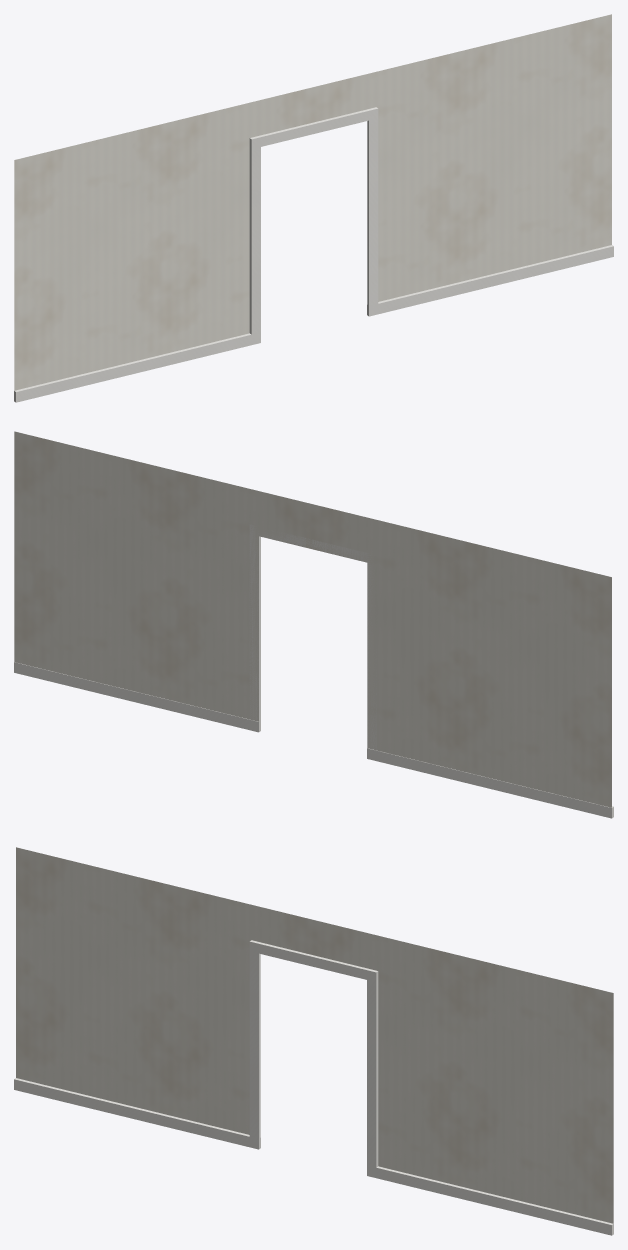
The model's file is wall8_door.gltf.
3 renders of one model, top to bottom at view 1: azimuth 30°, elevation 25°; view 2: azimuth 150°, elevation 25°; view 3: azimuth 330°, elevation 25°, orthographic.
Parts seen in each view (by area): view 1: jx_wall_8_door; view 2: jx_wall_8_door; view 3: jx_wall_8_door.
Boxes of the visible parts, x1,y1,x2,y2 form: jx_wall_8_door: (14,14,613,402); jx_wall_8_door: (14,431,613,818); jx_wall_8_door: (14,847,613,1235).
Bounding box in the file's own units: 8.3 × 3.2 × 0.05.
Materials: 2 (2 with a texture image).
